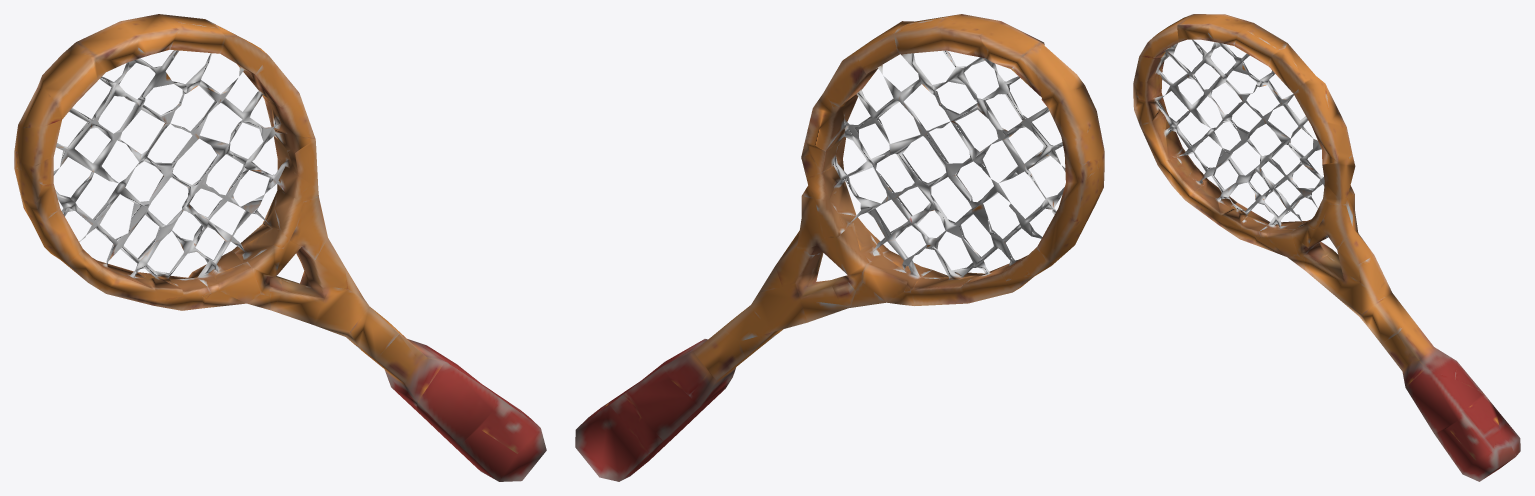
Rendered from red.glb.
3 renders of one model, left to right at view 1: azimuth 30°, elevation 25°; view 2: azimuth 150°, elevation 25°; view 3: azimuth 330°, elevation 25°, orthographic. The views are drawn at different scales.
Size of the model in its own units: 1.89 by 1.89 by 0.2092.
1 material, 1 textured.
